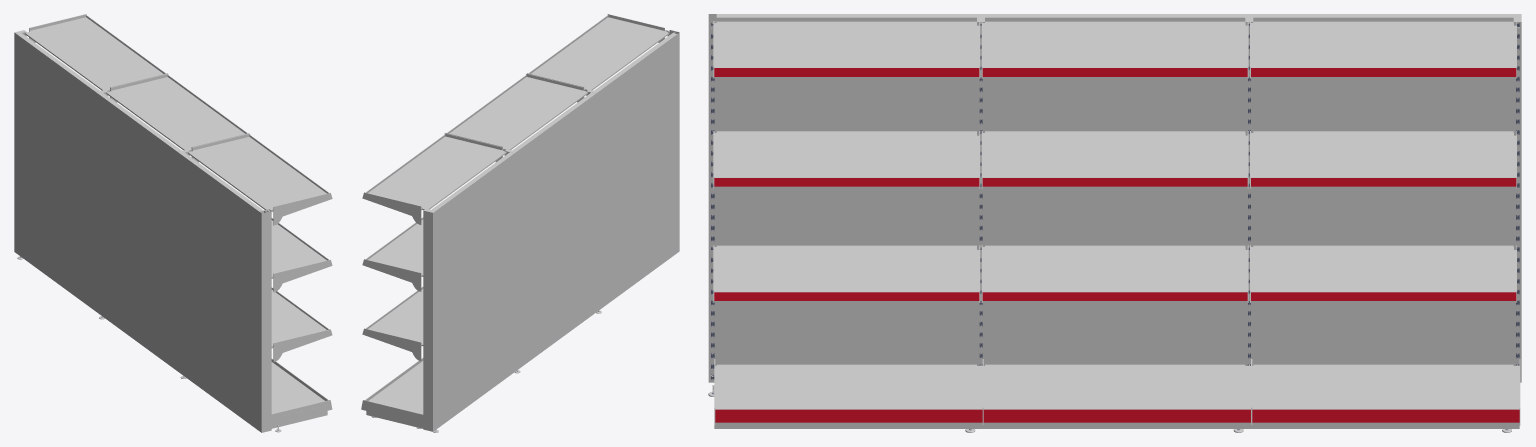
Rendered from Gondola001.fbx.
The picture shows the model from 3 angles, left to right: view 1: azimuth 30°, elevation 25°; view 2: azimuth 150°, elevation 25°; view 3: azimuth 270°, elevation 25°; orthographic projection. The views are drawn at different scales.
Parts seen in each view (by area): view 1: Grupo#237_005, Grupo#237_001, Grupo#237_003, Bandeja_009, Bandeja_006, Bandeja_003, Bandeja#1_006, Bandeja_008, Bandeja_007; view 2: Grupo#237_001, Grupo#237_005, Grupo#237_003, Bandeja_003, Bandeja_009, Bandeja_006, Bandeja#1_002, Bandeja_002, Bandeja_001; view 3: Grupo#237_005, Grupo#237_001, Grupo#237_003, Bandeja#1_006, Bandeja#1_002, Bandeja#1_004, Bandeja_009, Bandeja_007, Bandeja_004, Bandeja_006, Bandeja_005, Bandeja_008 (+3 smaller).
Part boxes in pixels (x1=…): Grupo#237_005: x1=177, y1=149, x2=271, y2=432; Grupo#237_001: x1=14, y1=30, x2=99, y2=311; Grupo#237_003: x1=96, y1=90, x2=181, y2=371; Bandeja_009: x1=188, y1=133, x2=332, y2=225; Bandeja_006: x1=106, y1=74, x2=248, y2=157; Bandeja_003: x1=24, y1=14, x2=167, y2=97; Bandeja#1_006: x1=271, y1=358, x2=332, y2=428; Bandeja_008: x1=271, y1=287, x2=332, y2=361; Bandeja_007: x1=271, y1=218, x2=332, y2=292; Grupo#237_001: x1=371, y1=151, x2=516, y2=432; Grupo#237_005: x1=586, y1=30, x2=679, y2=313; Grupo#237_003: x1=505, y1=91, x2=597, y2=373; Bandeja_003: x1=362, y1=133, x2=506, y2=224; Bandeja_009: x1=527, y1=14, x2=670, y2=97; Bandeja_006: x1=445, y1=73, x2=587, y2=157; Bandeja#1_002: x1=361, y1=357, x2=423, y2=428; Bandeja_002: x1=362, y1=286, x2=423, y2=360; Bandeja_001: x1=362, y1=217, x2=423, y2=291; Grupo#237_005: x1=708, y1=14, x2=984, y2=432; Grupo#237_001: x1=1245, y1=14, x2=1521, y2=432; Grupo#237_003: x1=977, y1=14, x2=1253, y2=432; Bandeja#1_006: x1=714, y1=359, x2=983, y2=428; Bandeja#1_002: x1=1251, y1=359, x2=1520, y2=428; Bandeja#1_004: x1=982, y1=359, x2=1251, y2=428; Bandeja_009: x1=711, y1=21, x2=980, y2=78; Bandeja_007: x1=711, y1=131, x2=980, y2=188; Bandeja_004: x1=980, y1=131, x2=1248, y2=188; Bandeja_006: x1=980, y1=21, x2=1248, y2=78; Bandeja_005: x1=980, y1=245, x2=1248, y2=302; Bandeja_008: x1=711, y1=245, x2=980, y2=302.
Bounding box in the file's own units: 17.51 × 51.27 × 102.
